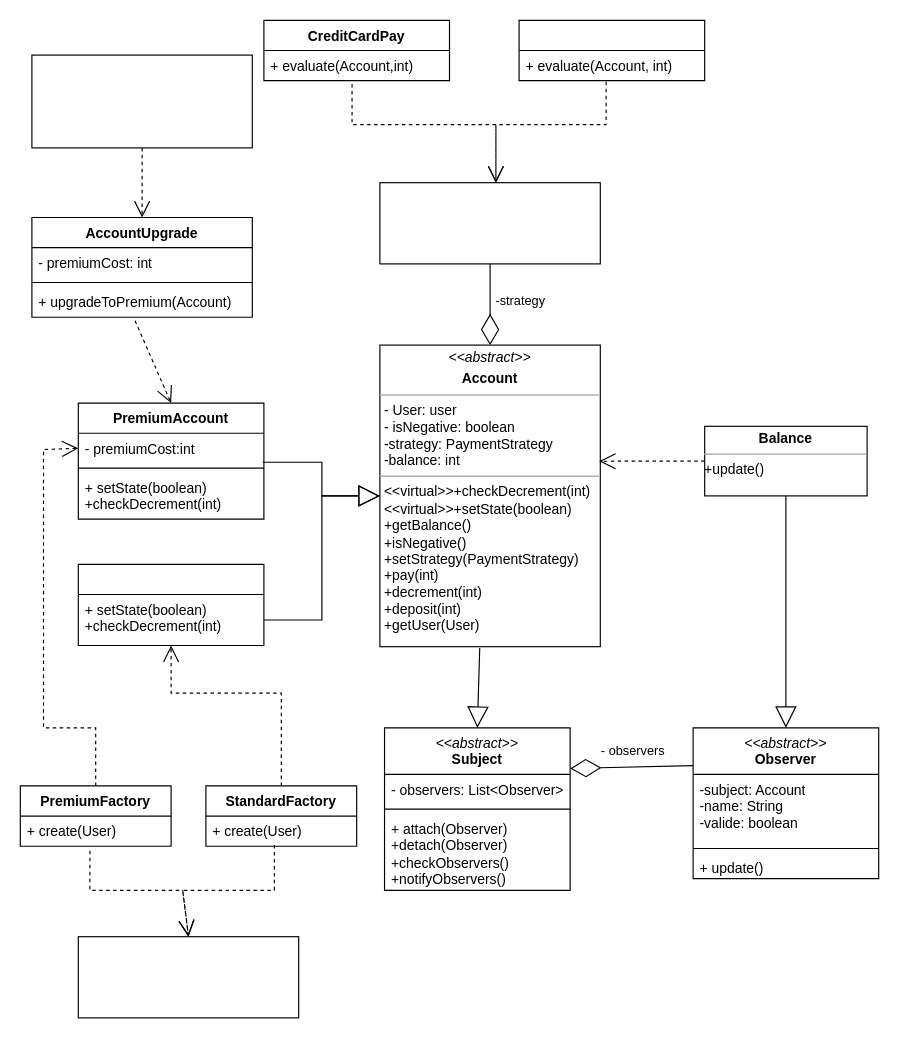
This 899x1038 diagram has some shape labels left out. The box of each missing label's shape, as (x1, y1, x2, y2) in pixels:
<<Interface>> AccountFactory + create(User): (77, 936, 299, 1018)
<<Interface>> PaymentStrategy + evaluate(Account, int): (379, 182, 600, 264)
<<Interface>> Upgrade + upgradeToPremium(Account): (31, 54, 252, 148)
BankTransferPay: (518, 19, 705, 81)
StandardAccount: (77, 563, 264, 646)
